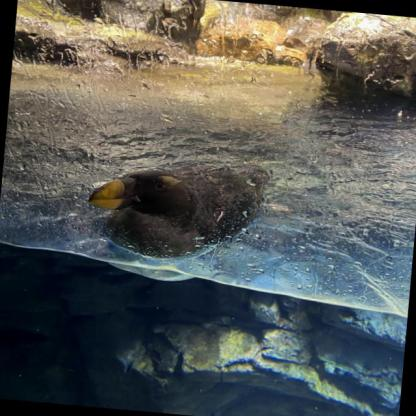puffin: (79, 142, 275, 290)
